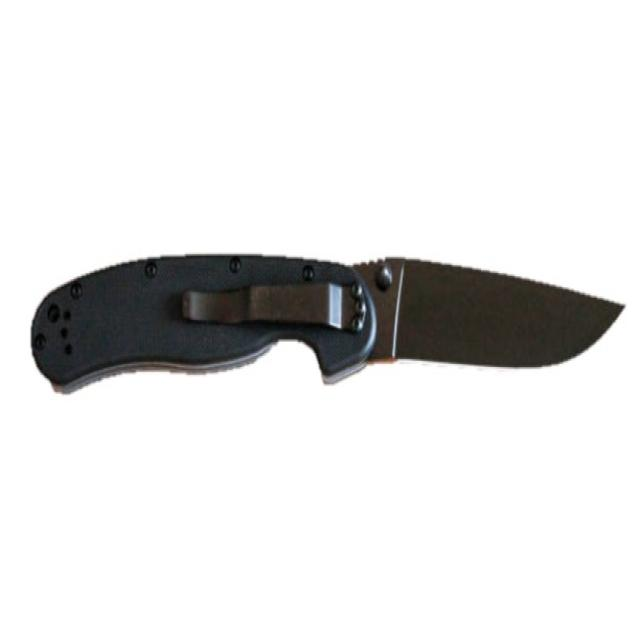knife: (26, 244, 633, 396)
